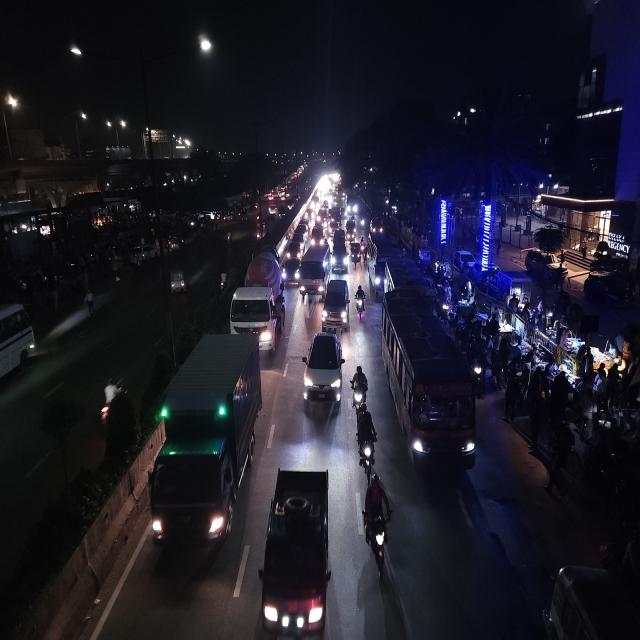bus: (380, 287, 476, 478), (0, 299, 38, 399), (299, 242, 330, 301)
car: (545, 560, 640, 640), (302, 329, 346, 416), (322, 275, 350, 330), (284, 231, 303, 286), (285, 224, 307, 262), (331, 238, 349, 276), (310, 224, 324, 248)
cng: (544, 560, 640, 640), (168, 260, 188, 298), (350, 239, 362, 268)
motorcycle: (362, 472, 391, 578), (97, 375, 128, 434), (354, 402, 379, 475), (352, 362, 368, 412), (354, 283, 367, 322)
pedestrian: (502, 374, 522, 424)
pickup_van: (259, 463, 335, 638)
truck: (150, 328, 264, 558), (228, 249, 285, 354)
